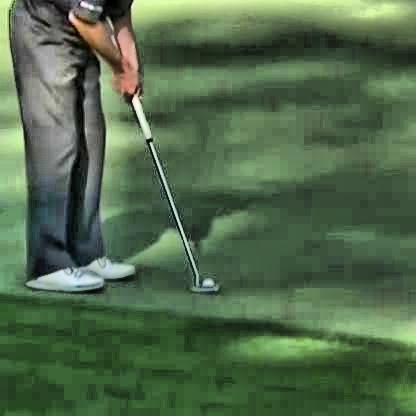golfball: (200, 276, 213, 286)
